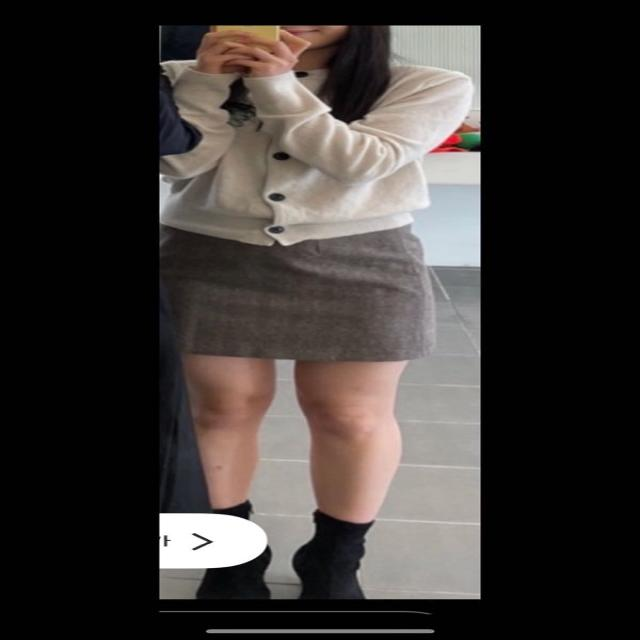cardigan: (158, 51, 469, 248)
skirt: (160, 214, 439, 364)
